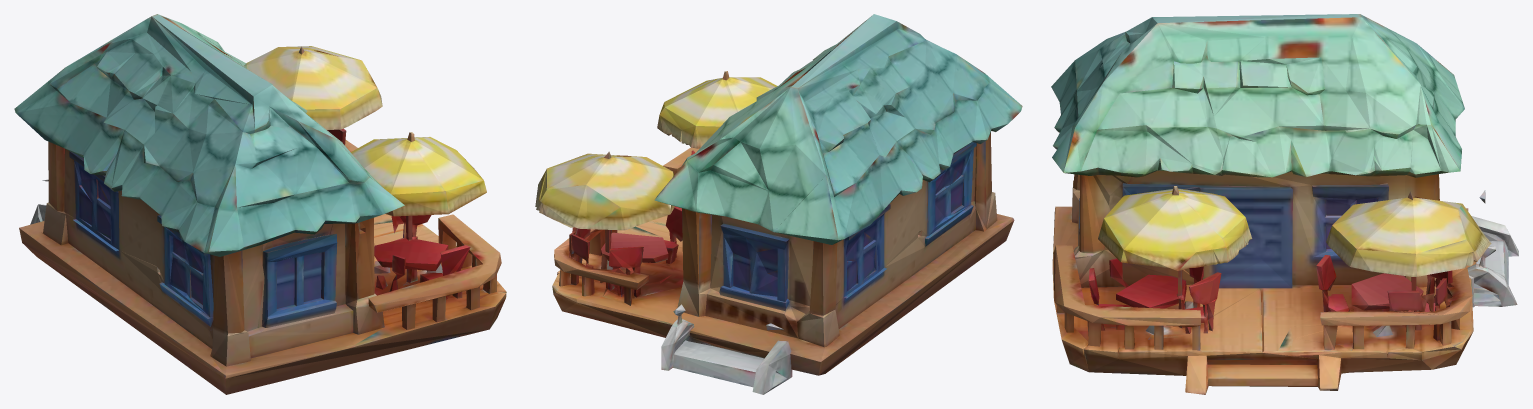
Rendered from b-cafe.glb.
3 views of the same model, side by side, from view 1: azimuth 30°, elevation 25°; view 2: azimuth 150°, elevation 25°; view 3: azimuth 270°, elevation 25° (orthographic). The views are drawn at different scales.
Visible parts, largest first — view 1: geometry_0; view 2: geometry_0; view 3: geometry_0.
Boxes of the visible parts, x1,y1,x2,y2 form: geometry_0: [14, 14, 506, 394]; geometry_0: [535, 14, 1022, 394]; geometry_0: [1051, 14, 1518, 394].
Bounding box in the file's own units: 0.8802 × 0.6108 × 1.
1 material, 1 textured.
